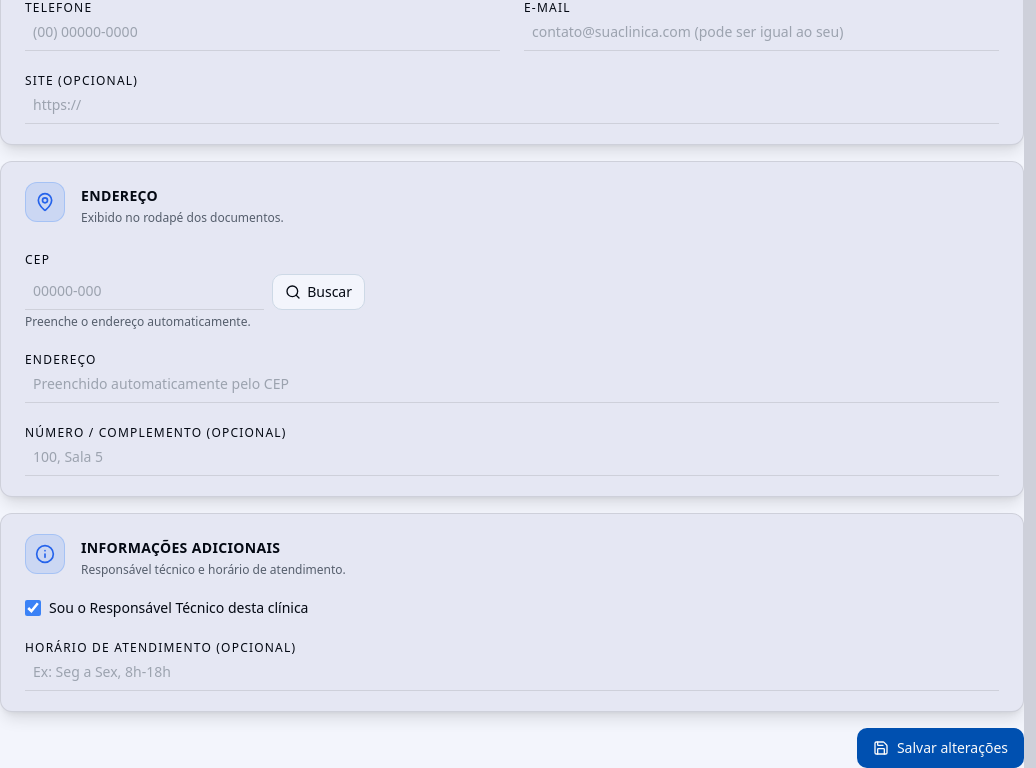
Test: TabClinic › toggle RT esconde campos por padrao e mostra ao desmarcar
(page scrolled)
Click the checkbox labelled "Sou o Responsável Técnico desta clínica" at (33, 608), box [25, 600, 41, 616]
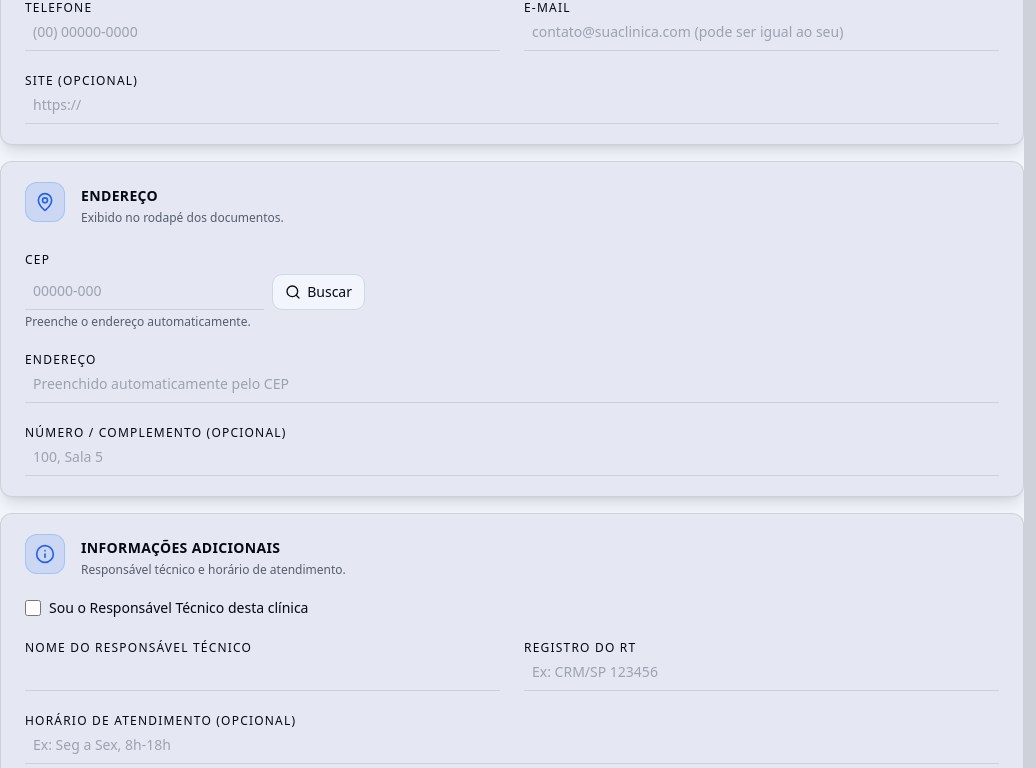
Now the field labelled "Nome do Responsável Técnico" is shown, box [25, 662, 500, 691]
